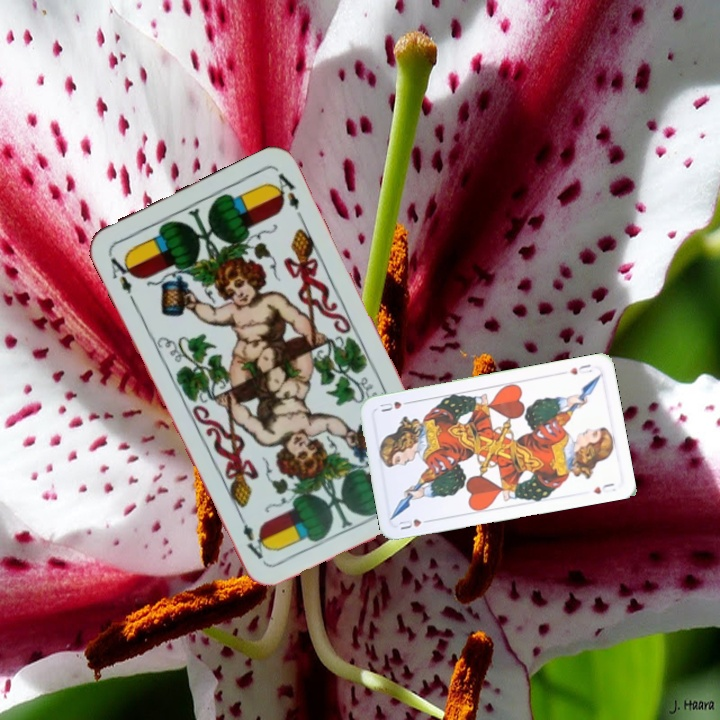EA: (104, 249, 138, 305)
HU: (394, 515, 434, 532), (565, 360, 595, 377)
